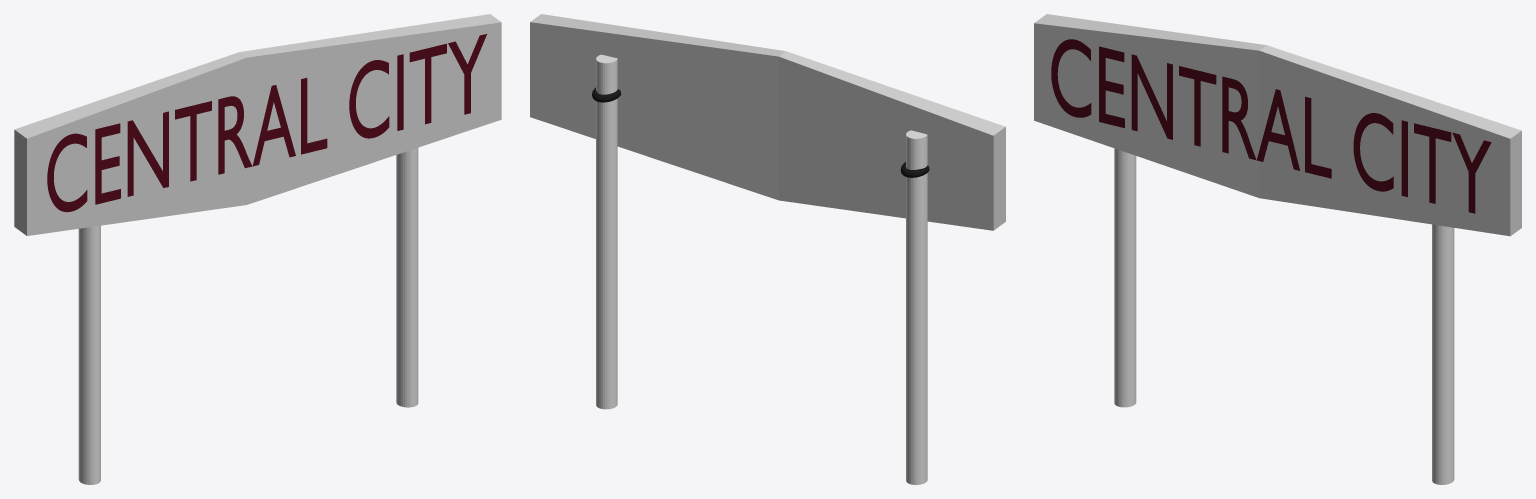
The model's file is CentralCIty.fbx.
The picture shows the model from 3 angles, left to right: view 1: azimuth 30°, elevation 25°; view 2: azimuth 150°, elevation 25°; view 3: azimuth 330°, elevation 25°; orthographic projection. The views are drawn at different scales.
Visible parts, largest first — view 1: Cube, Text, Cylinder.002, Cylinder.001; view 2: Cube, Cylinder.001, Cylinder.002; view 3: Cube, Text, Cylinder.001, Cylinder.002.
Part boxes in pixels (<box>): Cube: <box>14,14,501,235</box>; Text: <box>47,34,486,212</box>; Cylinder.002: <box>78,225,100,484</box>; Cylinder.001: <box>396,148,418,407</box>; Cube: <box>530,14,1005,230</box>; Cylinder.001: <box>596,54,617,409</box>; Cylinder.002: <box>906,130,927,484</box>; Cube: <box>1034,14,1521,236</box>; Text: <box>1051,39,1491,213</box>; Cylinder.001: <box>1432,224,1454,484</box>; Cylinder.002: <box>1114,148,1136,407</box>.
Bounding box in the file's own units: 3353 × 2666 × 312.
